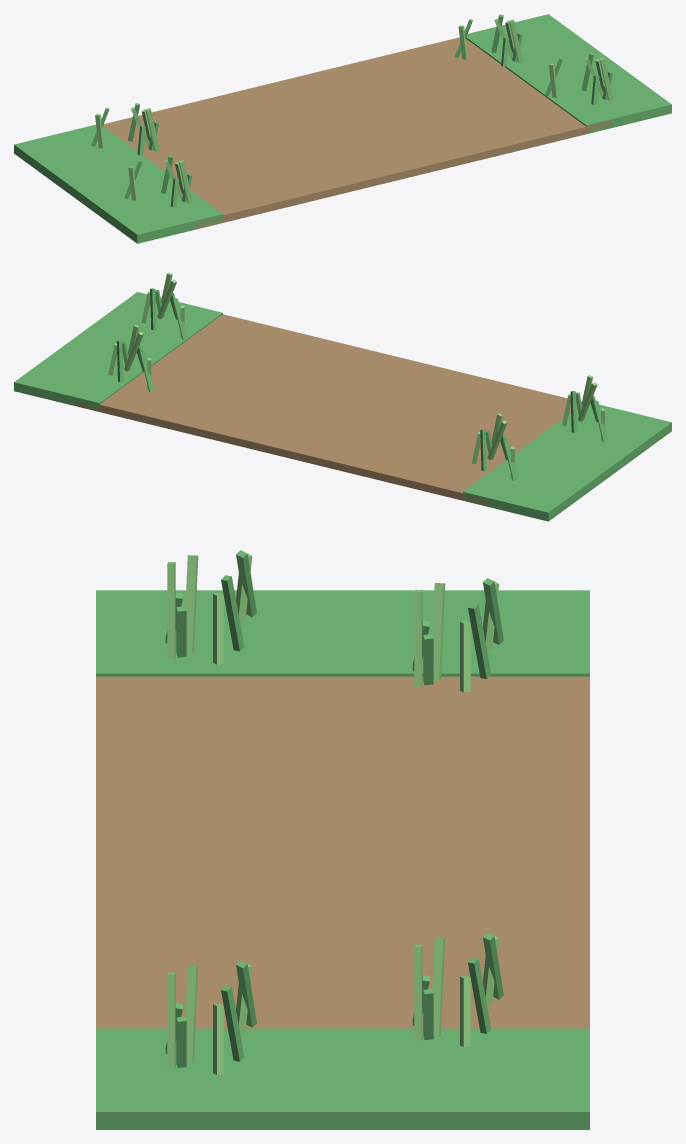
Rendered from dirt_path_edge.glb.
The picture shows the model from 3 angles, top to bottom: view 1: azimuth 30°, elevation 25°; view 2: azimuth 150°, elevation 25°; view 3: azimuth 270°, elevation 25°; orthographic projection. The views are drawn at different scales.
Visible parts, largest first — view 1: dirt_path_edge; view 2: dirt_path_edge; view 3: dirt_path_edge.
Part boxes in pixels (x1,y1,x2,y2): dirt_path_edge: [14, 14, 671, 243]; dirt_path_edge: [14, 272, 671, 521]; dirt_path_edge: [96, 550, 589, 1129].
Size of the model in its own units: 7.5 by 0.7197 by 3.
